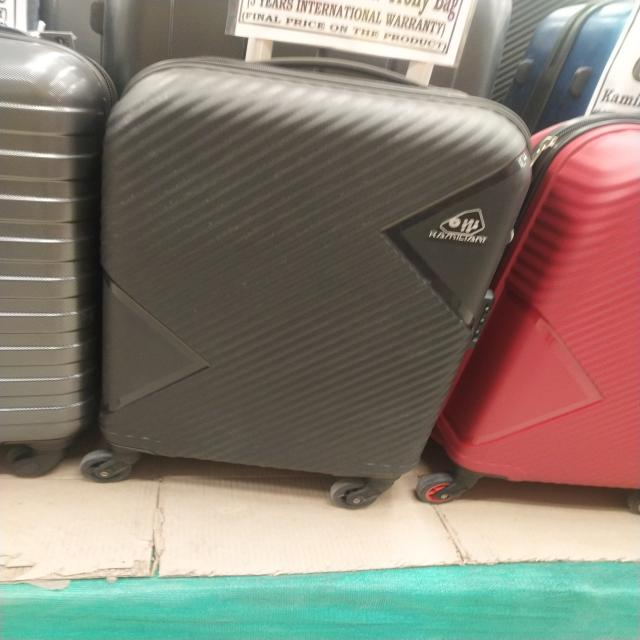suitcaserotation: (76, 36, 537, 513), (409, 111, 640, 508), (0, 19, 120, 482)
